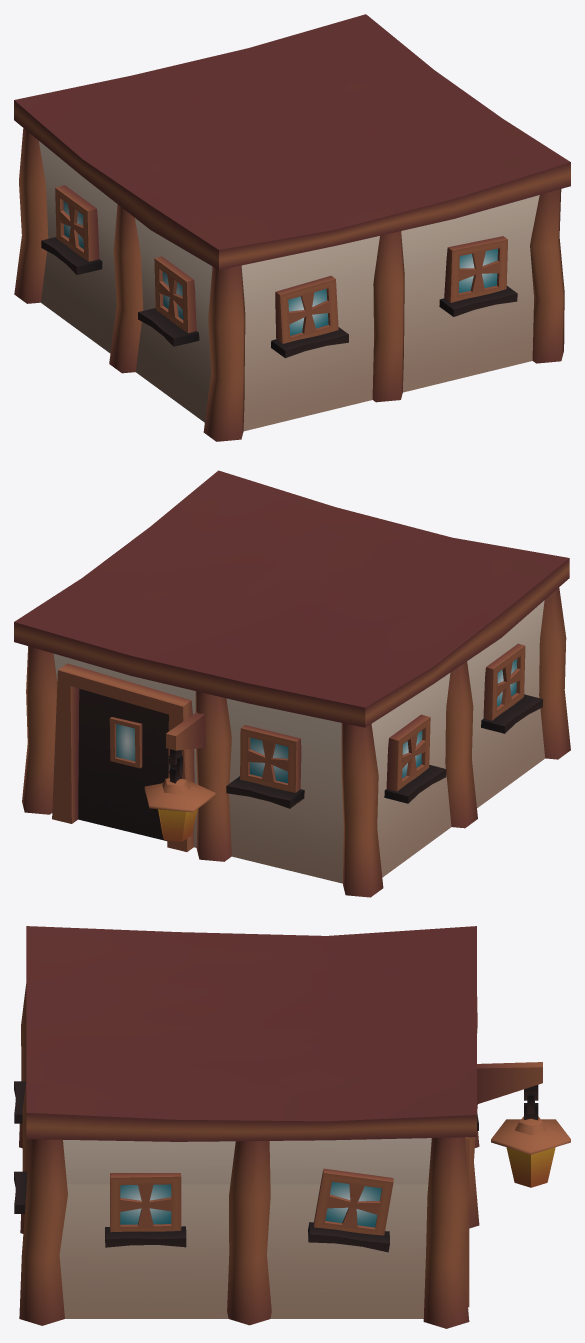
Rendered from Ground02.fbx.
The picture shows the model from 3 angles, top to bottom: view 1: azimuth 30°, elevation 25°; view 2: azimuth 150°, elevation 25°; view 3: azimuth 270°, elevation 25°; orthographic projection. The views are drawn at different scales.
Parts seen in each view (by area): view 1: Ground02; view 2: Ground02; view 3: Ground02.
Part boxes in pixels (left/top/right/bottom): Ground02: left=14, top=14, right=570, bottom=441; Ground02: left=14, top=470, right=570, bottom=897; Ground02: left=14, top=926, right=570, bottom=1328.
Bounding box in the file's own units: 669 × 337 × 799.
Materials: 1 (1 with a texture image).
